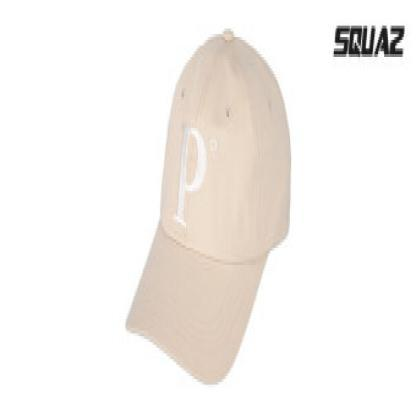cap: (122, 17, 300, 396)
